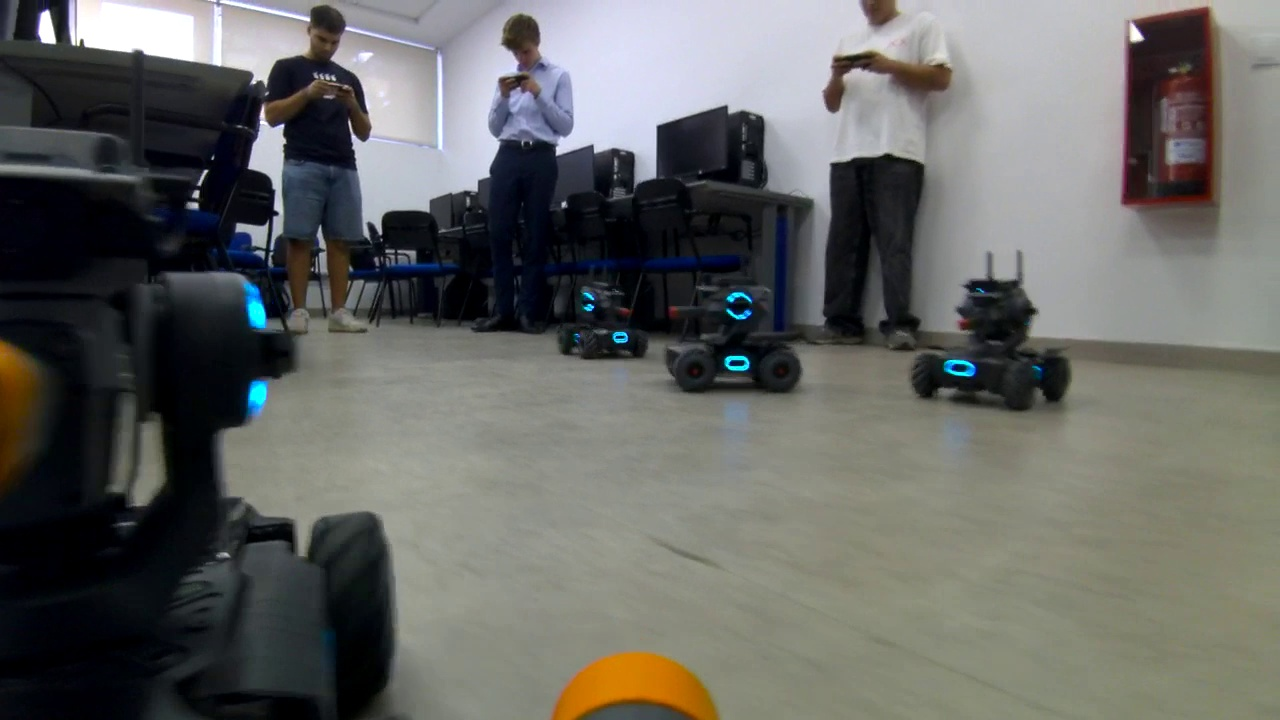robot: (904, 247, 1084, 416), (656, 270, 809, 399), (551, 262, 649, 361)
